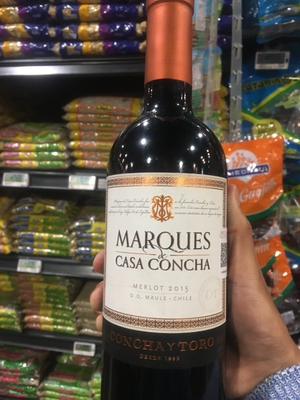marques de casa concha merlot: (96, 16, 237, 389)
